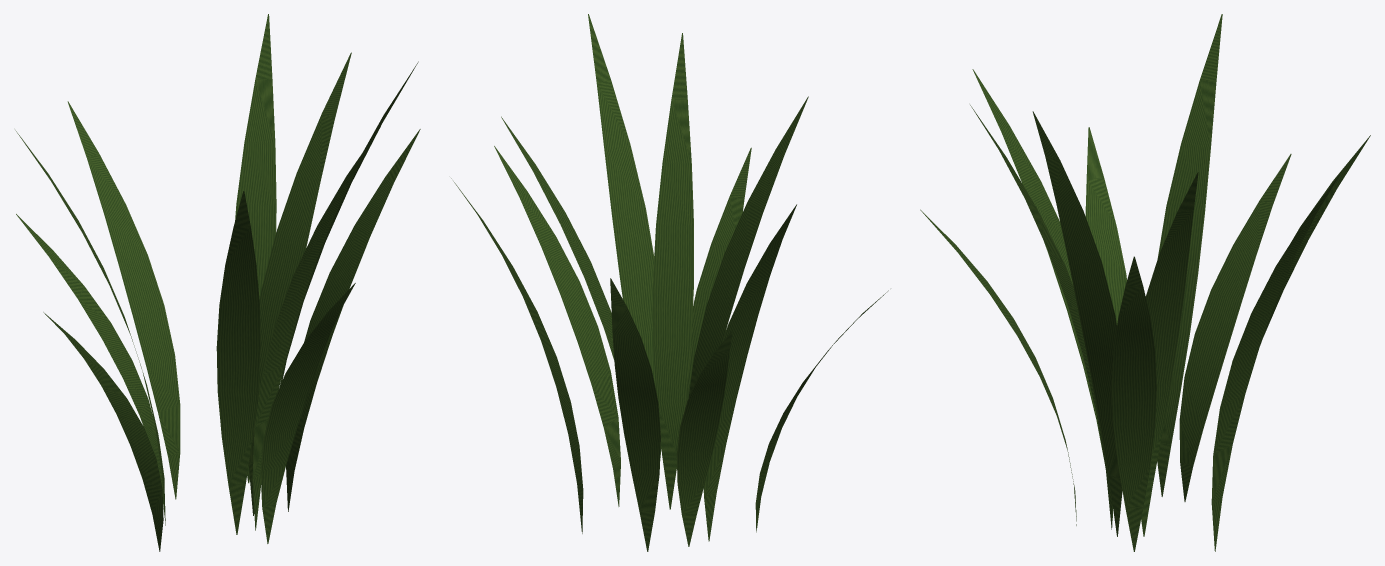
The model's file is jungle_reeds.glb.
The picture shows the model from 3 angles, left to right: view 1: azimuth 30°, elevation 25°; view 2: azimuth 150°, elevation 25°; view 3: azimuth 270°, elevation 25°; orthographic projection. The views are drawn at different scales.
Parts seen in each view (by area): view 1: Reed_07, Reed_06, Reed_08, Reed_03, Reed_02, Reed_10, Reed_00, Reed_01, Reed_04, Reed_09, Reed_05; view 2: Reed_10, Reed_05, Reed_06, Reed_00, Reed_01, Reed_07, Reed_09, Reed_02, Reed_03, Reed_08, Reed_04; view 3: Reed_00, Reed_05, Reed_01, Reed_09, Reed_08, Reed_03, Reed_04, Reed_07, Reed_10, Reed_02, Reed_06.
Part boxes in pixels (x1,y1,x2,y2): Reed_07: (216, 191, 260, 534); Reed_06: (67, 101, 180, 499); Reed_08: (248, 52, 351, 515); Reed_03: (235, 14, 276, 483); Reed_02: (260, 283, 355, 543); Reed_10: (252, 126, 380, 530); Reed_00: (286, 129, 420, 511); Reed_01: (16, 214, 164, 517); Reed_04: (43, 312, 163, 551); Reed_09: (15, 130, 165, 525); Reed_05: (279, 61, 418, 386); Reed_10: (652, 33, 693, 509); Reed_05: (588, 14, 661, 460); Reed_06: (610, 278, 660, 551); Reed_00: (494, 146, 620, 506); Reed_01: (676, 331, 732, 546); Reed_07: (688, 96, 808, 397); Reed_09: (703, 204, 796, 541); Reed_02: (684, 147, 751, 409); Reed_03: (451, 178, 583, 533); Reed_08: (501, 116, 614, 359); Reed_04: (755, 290, 888, 532); Reed_00: (1111, 256, 1156, 551); Reed_05: (1032, 111, 1122, 536); Reed_01: (1179, 154, 1291, 501); Reed_09: (1157, 14, 1222, 496); Reed_08: (1141, 172, 1198, 536); Reed_03: (1211, 174, 1339, 551); Reed_04: (1085, 127, 1126, 324); Reed_07: (972, 69, 1112, 520); Reed_10: (970, 105, 1112, 529); Reed_02: (920, 209, 1076, 525); Reed_06: (1260, 135, 1370, 345).
Bounding box in the file's own units: 0.967 × 1.08 × 0.9162.
1 material, 1 textured.
